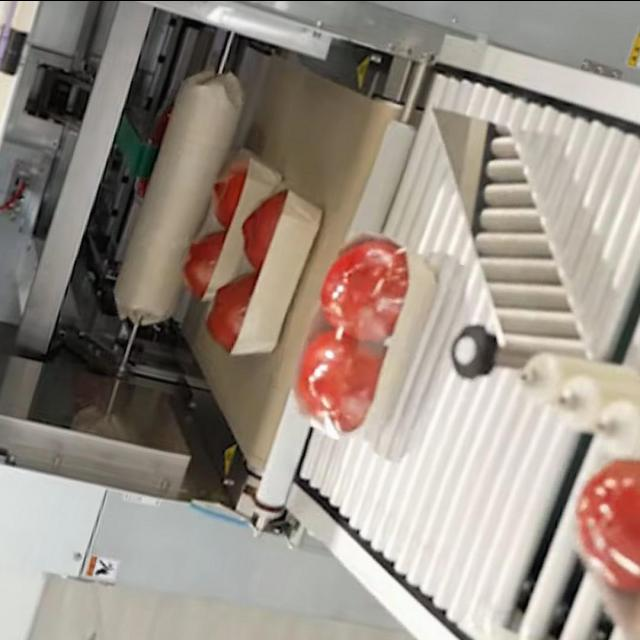food: (292, 230, 438, 454)
